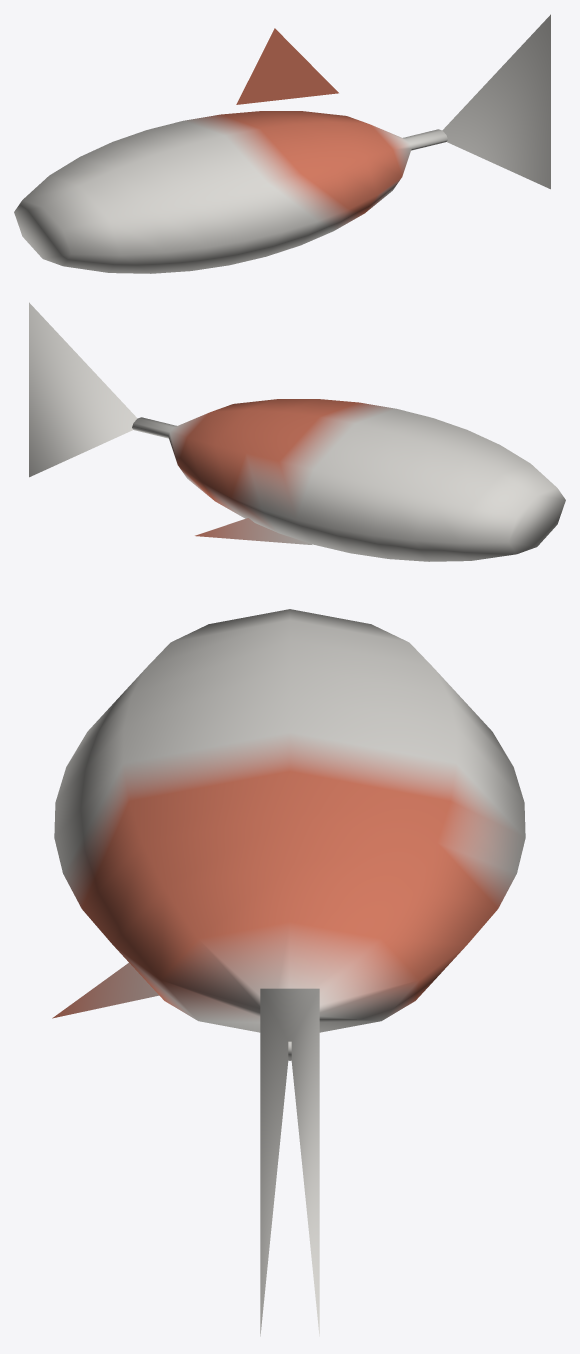
Rendered from koi.glb.
3 views of the same model, one above another, from view 1: azimuth 30°, elevation 25°; view 2: azimuth 150°, elevation 25°; view 3: azimuth 270°, elevation 25° (orthographic). The views are drawn at different scales.
Visible parts, largest first — view 1: koi; view 2: koi; view 3: koi.
Boxes of the visible parts, box(x1,y1,x2,y2) form: koi: box(14, 14, 550, 273); koi: box(29, 302, 565, 561); koi: box(52, 609, 525, 1336).
Size of the model in its own units: 0.8 by 0.35 by 0.32.
